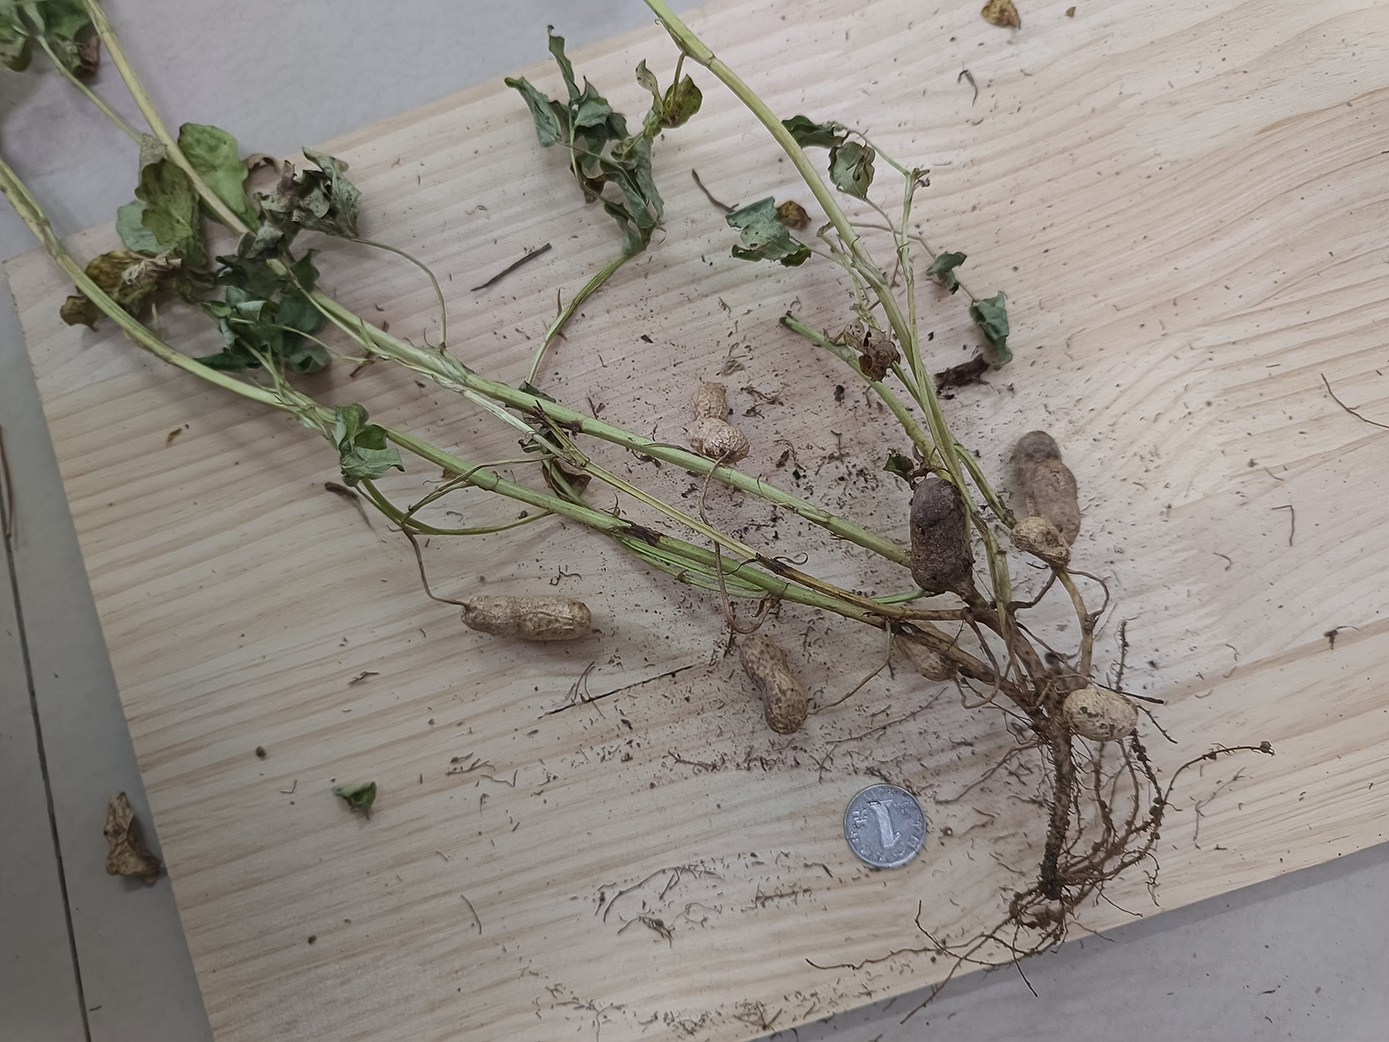h: (739, 639, 807, 736), (463, 597, 594, 644), (687, 380, 753, 463), (1064, 690, 1137, 742), (895, 618, 959, 679), (1015, 518, 1070, 563)
l: (908, 481, 973, 592), (1012, 431, 1080, 521)
